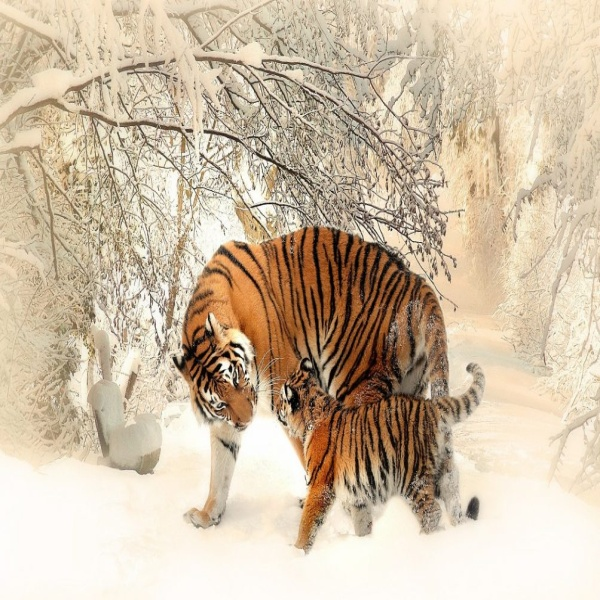Tiger: (167, 222, 459, 536), (274, 357, 491, 554)
